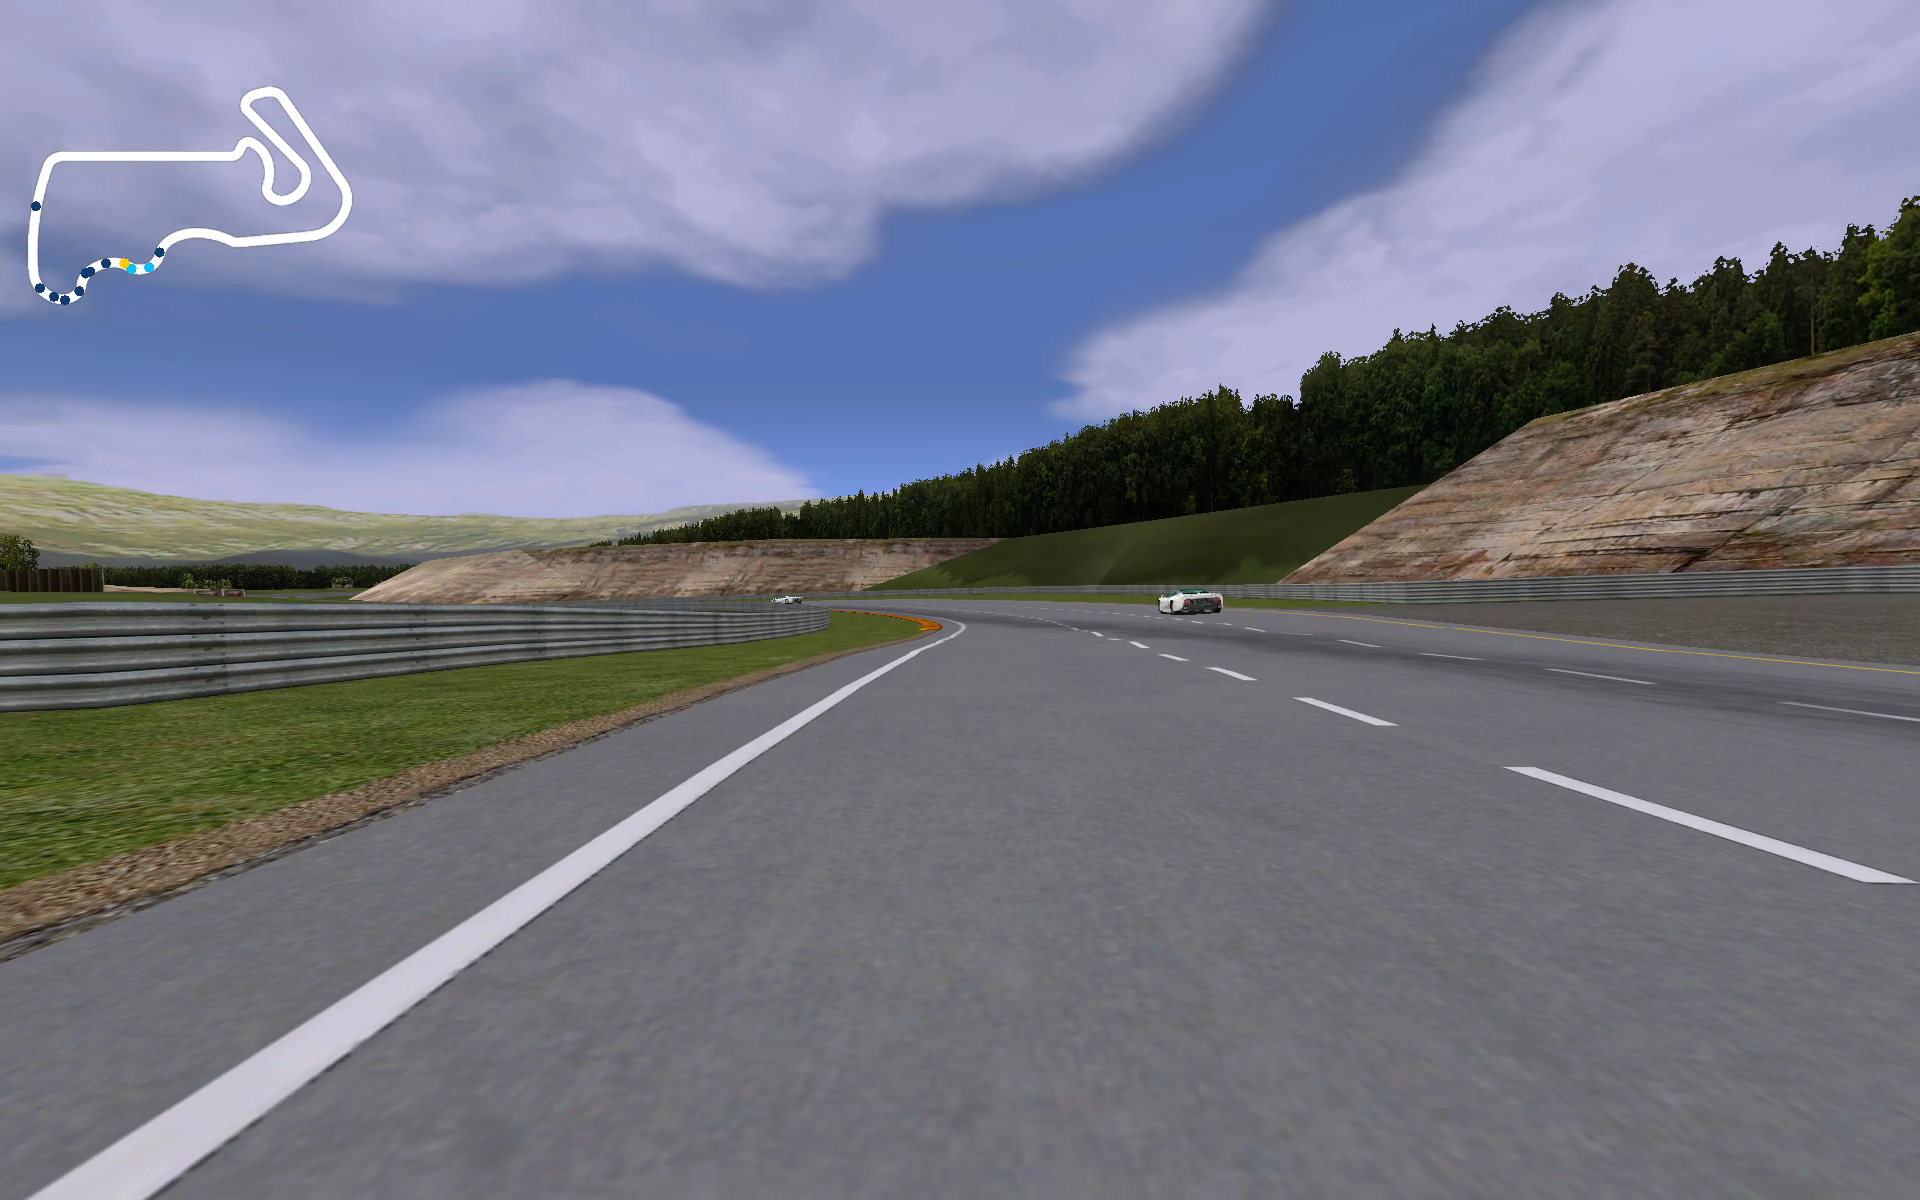car: (1157, 588, 1226, 615)
